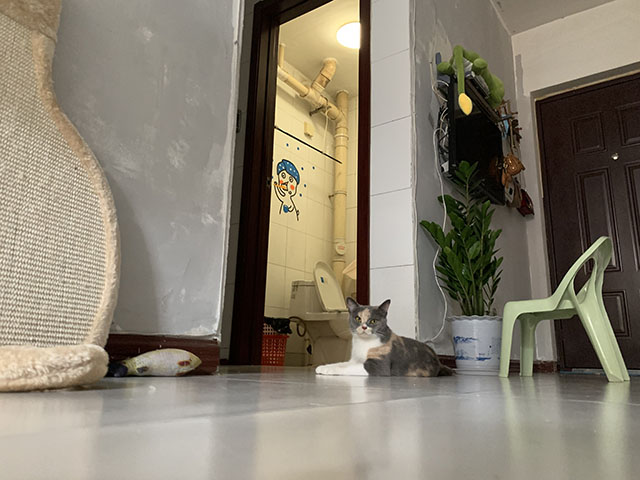closestool: (288, 260, 354, 366)
stool: (496, 234, 632, 383)
trashcan: (261, 315, 292, 366)
